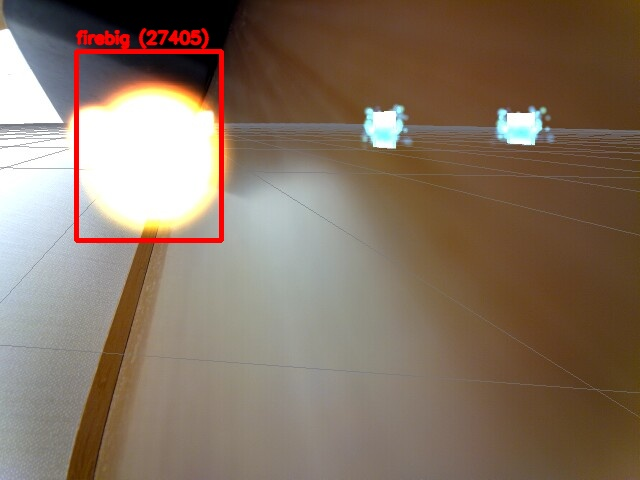firebig: (76, 51, 221, 240)
